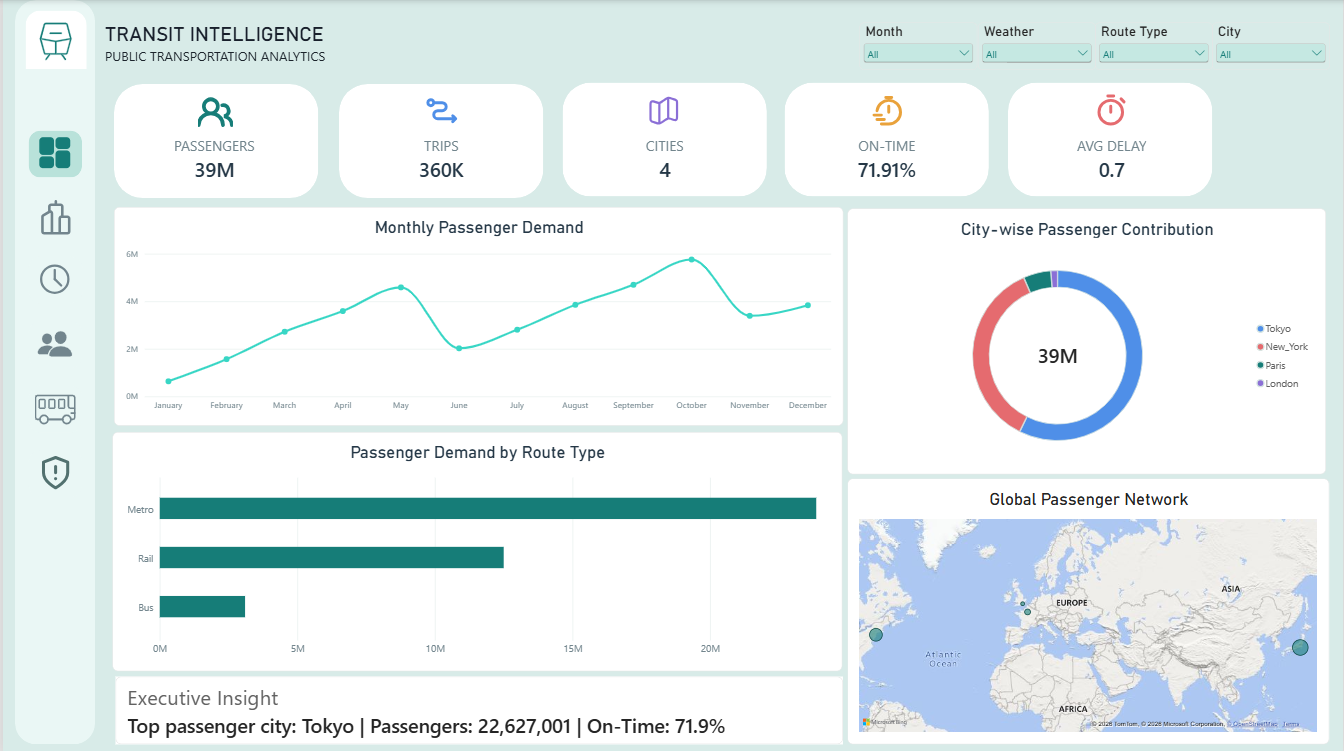

Layout of this report page (visuals, bound fields, positions):
{"tool":"powerbi","page":{"name":"Executive Overview","canvas":[1920,1080],"ordinal":0},"visuals":[{"type":"shape","box":[17.5,0,114.7,1066.2],"z":0},{"type":"textbox","title":"TRANSIT INTELLIGENCE","box":[145.4,31.8,392.9,61.3],"z":1000},{"type":"shape","box":[31.4,15.9,87.7,84.1],"z":2000},{"type":"slicer","fields":{"Values":["public_transportation_cleaned.city"]},"box":[1732.3,31.7,168.3,68.3],"z":3000},{"type":"slicer","fields":{"Values":["public_transportation_cleaned.route_type"]},"box":[1563.9,31.7,168.3,68.3],"z":4000},{"type":"slicer","fields":{"Values":["public_transportation_cleaned.weather_condition"]},"box":[1395.7,31.4,168.3,68.3],"z":5000},{"type":"slicer","fields":{"Values":["public_transportation_cleaned.timestamp.Variation.Date Hierarchy.Month"]},"box":[1227.1,31.4,168.3,68.3],"z":6000},{"type":"lineChart","title":"Monthly Passenger Demand","fields":{"Category":["public_transportation_cleaned.timestamp.Variation.Date Hierarchy.Month"],"Y":["_Measures.Total Passengers"]},"box":[158.2,297.3,1044.5,313.6],"z":7000},{"type":"donutChart","title":"City-wise Passenger Contribution","fields":{"Category":["public_transportation_cleaned.city"],"Y":["_Measures.Total Passengers"]},"box":[1210.1,297.7,685.6,380.6],"z":8000},{"type":"cardVisual","fields":{"Data":["_Measures.Executive Insight"]},"box":[161.2,968.8,1042.5,97.5],"z":9000},{"type":"shape","box":[158.6,119.6,292.8,163.5],"z":10000},{"type":"shape","box":[481.1,120,292.8,163.5],"z":11000},{"type":"shape","box":[801.1,118.9,292.8,163.5],"z":12000},{"type":"shape","box":[1120,118.9,292.8,163.5],"z":13000},{"type":"shape","box":[1440,118.9,292.8,163.5],"z":14000},{"type":"cardVisual","fields":{"Data":["_Measures.Total Passengers"]},"box":[215.6,177.8,176.7,100],"z":15000},{"type":"cardVisual","fields":{"Data":["_Measures.TRIPS"]},"box":[538.9,177.8,177,100],"z":16000},{"type":"cardVisual","fields":{"Data":["_Measures.CITIES"]},"box":[858.9,177.8,177,100],"z":17000},{"type":"cardVisual","fields":{"Data":["_Measures.On-Time Rate %"]},"box":[1177.8,177.8,177,100],"z":18000},{"type":"cardVisual","fields":{"Data":["_Measures.AVG DELAY"]},"box":[1498.9,177.8,177,100],"z":19000},{"type":"image","box":[271.2,135,66.7,50.8],"z":20000},{"type":"image","box":[595,133.8,66.7,50.8],"z":21000},{"type":"image","box":[913.8,133.8,66.7,50.8],"z":22000},{"type":"image","box":[1232.5,133.8,66.7,50.8],"z":23000},{"type":"image","box":[1553,134,66.7,50.8],"z":24000},{"type":"image","box":[35.5,26.4,78.2,63.6],"z":25000},{"type":"shape","box":[37.5,186.2,76.9,67.5],"z":26000},{"type":"shape","box":[37.3,277.3,77.3,67.3],"z":27000},{"type":"shape","box":[37.3,367.3,77.3,67.3],"z":28000},{"type":"shape","box":[37.3,459.1,76.9,67.5],"z":29000},{"type":"shape","box":[37.3,551.8,76.9,67.5],"z":30000},{"type":"shape","box":[37.3,644.5,76.9,67.5],"z":31000},{"type":"image","box":[41,194,66.7,50.8],"z":32000},{"type":"image","box":[39.1,281.8,74,59],"z":33000},{"type":"image","box":[41.8,374.5,66.4,51.8],"z":34000},{"type":"image","box":[39.1,466.4,71.8,52.7],"z":35000},{"type":"image","box":[39.1,556.4,71.8,59.1],"z":36000},{"type":"image","box":[38.2,651.8,73.6,51.8],"z":37000},{"type":"actionButton","box":[46.3,194.7,58.4,49.5],"z":38000},{"type":"actionButton","box":[46.3,286.3,58.4,49.5],"z":39000},{"type":"actionButton","box":[46.3,375.8,58.4,49.5],"z":40000},{"type":"actionButton","box":[45.8,467.9,58.4,49.5],"z":41000},{"type":"actionButton","box":[46,561,59,50],"z":42000},{"type":"actionButton","box":[46,653.3,58.4,49.5],"z":43000},{"type":"map","title":"Global Passenger Network","fields":{"Category":["public_transportation_cleaned.city"],"Size":["_Measures.PASSENGERS"],"Y":["_Measures.TRIPS"]},"box":[1210,685.4,690,380.8],"z":44000},{"type":"clusteredBarChart","title":"Passenger Demand by Route Type","fields":{"Category":["public_transportation_cleaned.route_type"],"Y":["_Measures.PASSENGERS"]},"box":[157.5,619.2,1045,342.5],"z":45000},{"type":"actionButton","box":[31.4,25.7,87.1,74.3],"z":46000}]}

Visuals, with their boxes in screenshot pixels (x1, y1, x2, y2), scaled from the page's 1920x1080 canvas onto the 1344x751 screenshot:
shape: (12, 0, 93, 741)
"TRANSIT INTELLIGENCE" textbox: (102, 22, 377, 65)
shape: (22, 11, 83, 70)
slicer - public_transportation_cleaned.city: (1213, 22, 1330, 70)
slicer - public_transportation_cleaned.route_type: (1095, 22, 1213, 70)
slicer - public_transportation_cleaned.weather_condition: (977, 22, 1095, 69)
slicer - public_transportation_cleaned.timestamp.Variation.Date Hierarchy.Month: (859, 22, 977, 69)
"Monthly Passenger Demand" lineChart: (111, 207, 842, 425)
"City-wise Passenger Contribution" donutChart: (847, 207, 1327, 472)
cardVisual - _Measures.Executive Insight: (113, 674, 843, 741)
shape: (111, 83, 316, 197)
shape: (337, 83, 542, 197)
shape: (561, 83, 766, 196)
shape: (784, 83, 989, 196)
shape: (1008, 83, 1213, 196)
cardVisual - _Measures.Total Passengers: (151, 124, 275, 193)
cardVisual - _Measures.TRIPS: (377, 124, 501, 193)
cardVisual - _Measures.CITIES: (601, 124, 725, 193)
cardVisual - _Measures.On-Time Rate %: (824, 124, 948, 193)
cardVisual - _Measures.AVG DELAY: (1049, 124, 1173, 193)
image: (190, 94, 237, 129)
image: (416, 93, 463, 128)
image: (640, 93, 686, 128)
image: (863, 93, 909, 128)
image: (1087, 93, 1134, 129)
image: (25, 18, 80, 63)
shape: (26, 129, 80, 176)
shape: (26, 193, 80, 240)
shape: (26, 255, 80, 302)
shape: (26, 319, 80, 366)
shape: (26, 384, 80, 431)
shape: (26, 448, 80, 495)
image: (29, 135, 75, 170)
image: (27, 196, 79, 237)
image: (29, 260, 76, 296)
image: (27, 324, 78, 361)
image: (27, 387, 78, 428)
image: (27, 453, 78, 489)
actionButton: (32, 135, 73, 170)
actionButton: (32, 199, 73, 234)
actionButton: (32, 261, 73, 296)
actionButton: (32, 325, 73, 360)
actionButton: (32, 390, 74, 425)
actionButton: (32, 454, 73, 489)
"Global Passenger Network" map: (847, 477, 1330, 741)
"Passenger Demand by Route Type" clusteredBarChart: (110, 431, 842, 669)
actionButton: (22, 18, 83, 70)
